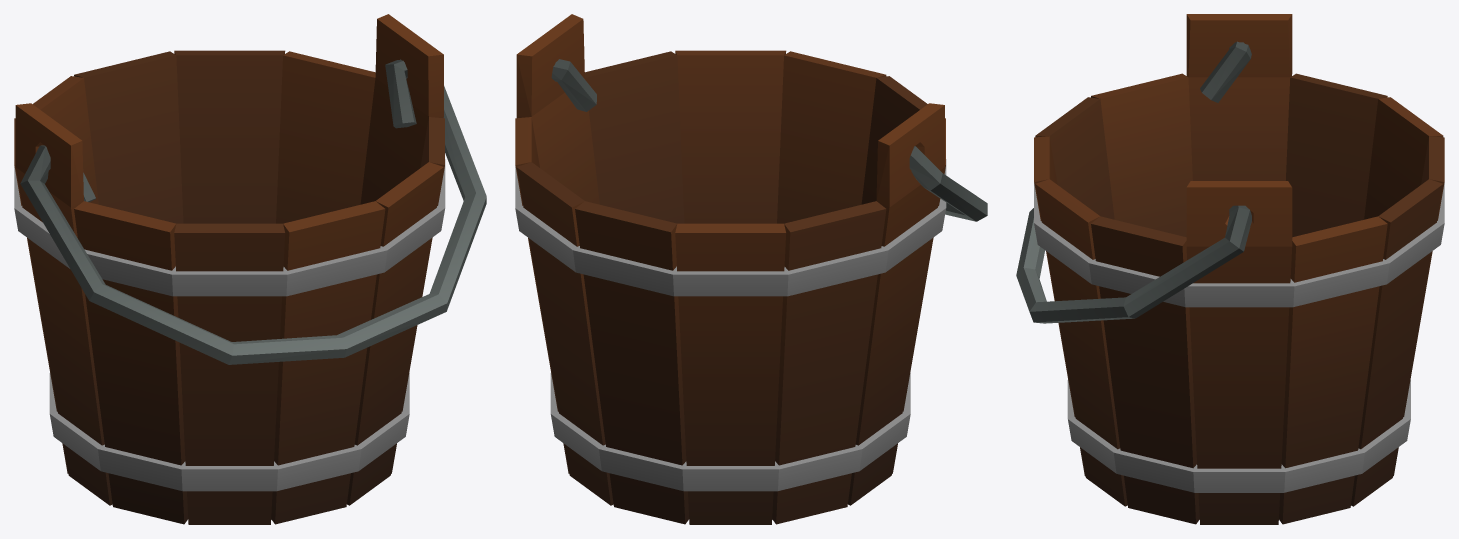
Rendered from Prop_Bucket_01.obj.
3 views of the same model, side by side, from view 1: azimuth 30°, elevation 25°; view 2: azimuth 150°, elevation 25°; view 3: azimuth 270°, elevation 25° (orthographic). The views are drawn at different scales.
Visible parts, largest first — view 1: Prop_Bucket_01, Prop_Bucket_Handle_01; view 2: Prop_Bucket_01, Prop_Bucket_Handle_01; view 3: Prop_Bucket_01, Prop_Bucket_Handle_01.
Part boxes in pixels (x1,y1,x2,y2): Prop_Bucket_01: [14, 14, 445, 524]; Prop_Bucket_Handle_01: [20, 59, 486, 364]; Prop_Bucket_01: [515, 14, 946, 524]; Prop_Bucket_Handle_01: [551, 59, 987, 221]; Prop_Bucket_01: [1034, 14, 1444, 524]; Prop_Bucket_Handle_01: [1016, 41, 1251, 323].
Bounding box in the file's own units: 0.4667 × 0.4008 × 0.4337.
1 material, 1 textured.
